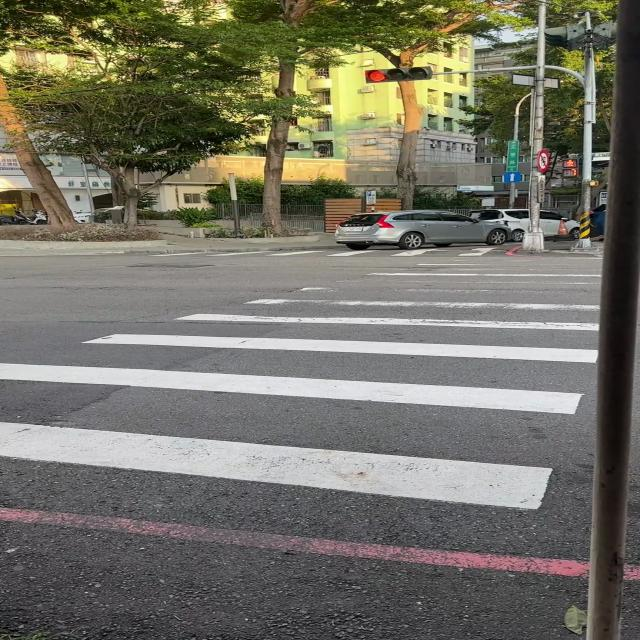car: (335, 210, 512, 250), (465, 209, 529, 241), (540, 211, 578, 236)
crosswalk: (0, 256, 602, 511), (134, 246, 499, 256)
